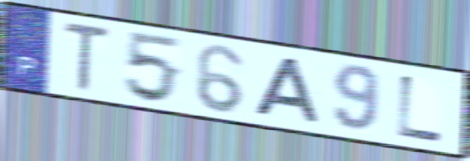5: (123, 28, 187, 105)
6: (194, 41, 248, 116)
9: (330, 62, 381, 136)
A: (250, 55, 323, 126)
L: (395, 72, 447, 145)
T: (61, 18, 113, 93)
